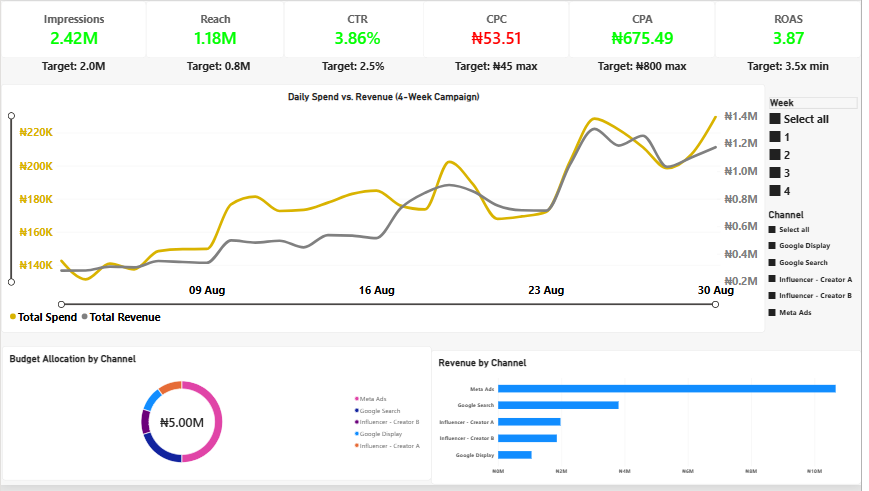

The page's visual inventory and layout, read from the dashboard file:
{"tool":"powerbi","page":{"name":"Overview","canvas":[1920,1080],"ordinal":0},"visuals":[{"type":"cardVisual","fields":{"Data":["_Measures.Overall CTR"]},"box":[632.9,0,326.2,127.4],"z":0},{"type":"cardVisual","fields":{"Data":["_Measures.Total Impressions"]},"box":[0,0,324,127.4],"z":1000},{"type":"cardVisual","fields":{"Data":["_Measures.Total Reach"]},"box":[324,0,308.9,127.4],"z":2000},{"type":"cardVisual","fields":{"Data":["_Measures.Overall CPC"]},"box":[941.8,0,326.2,127.4],"z":3000},{"type":"cardVisual","fields":{"Data":["_Measures.Overall CPA"]},"box":[1267.9,0,326.2,127.4],"z":4000},{"type":"cardVisual","fields":{"Data":["_Measures.Overall ROAS"]},"box":[1594.1,0,326.2,127.4],"z":5000},{"type":"textbox","box":[0,127.4,324,45.4],"z":6000},{"type":"textbox","box":[324,127.4,324,45.4],"z":7000},{"type":"textbox","box":[632.9,127.4,308.9,45.4],"z":8000},{"type":"textbox","box":[941.8,127.4,326.2,45.4],"z":9000},{"type":"textbox","box":[1267.9,127.4,326.2,45.4],"z":10000},{"type":"textbox","box":[1594.1,127.4,326.2,45.4],"z":11000},{"type":"lineChart","title":"Daily Spend vs. Revenue (4-Week Campaign)","fields":{"Category":["DateTable.Date"],"Y":["_Measures.Total Spend"],"Y2":["_Measures.Total Revenue"]},"box":[0,185.8,1706.4,555.1],"z":12000},{"type":"donutChart","title":"Budget Allocation by Channel","fields":{"Category":["Raw Campaign Data.Channel"],"Y":["_Measures.Total Spend"]},"box":[2.5,770,959,300.2],"z":13000},{"type":"barChart","title":"Revenue by Channel","fields":{"Category":["Raw Campaign Data.Channel"],"Y":["_Measures.Total Revenue"]},"box":[959,780,961,300],"z":14000},{"type":"slicer","fields":{"Values":["Raw Campaign Data.Week"]},"box":[1707.6,215.1,212.4,247.4],"z":15000},{"type":"slicer","fields":{"Values":["Raw Campaign Data.Channel"]},"box":[1706.4,464.4,213.8,261.4],"z":16000}]}

Visuals, with their boxes in screenshot pixels (x1, y1, x2, y2), scaled from the page's 1920x1080 canvas onto the 869x491 screenshot:
cardVisual - _Measures.Overall CTR: bbox=[286, 0, 434, 58]
cardVisual - _Measures.Total Impressions: bbox=[0, 0, 147, 58]
cardVisual - _Measures.Total Reach: bbox=[147, 0, 286, 58]
cardVisual - _Measures.Overall CPC: bbox=[426, 0, 574, 58]
cardVisual - _Measures.Overall CPA: bbox=[574, 0, 721, 58]
cardVisual - _Measures.Overall ROAS: bbox=[721, 0, 868, 58]
textbox: bbox=[0, 58, 147, 79]
textbox: bbox=[147, 58, 293, 79]
textbox: bbox=[286, 58, 426, 79]
textbox: bbox=[426, 58, 574, 79]
textbox: bbox=[574, 58, 721, 79]
textbox: bbox=[721, 58, 868, 79]
"Daily Spend vs. Revenue (4-Week Campaign)" lineChart: bbox=[0, 84, 772, 337]
"Budget Allocation by Channel" donutChart: bbox=[1, 350, 435, 487]
"Revenue by Channel" barChart: bbox=[434, 355, 868, 490]
slicer - Raw Campaign Data.Week: bbox=[773, 98, 868, 210]
slicer - Raw Campaign Data.Channel: bbox=[772, 211, 868, 330]
